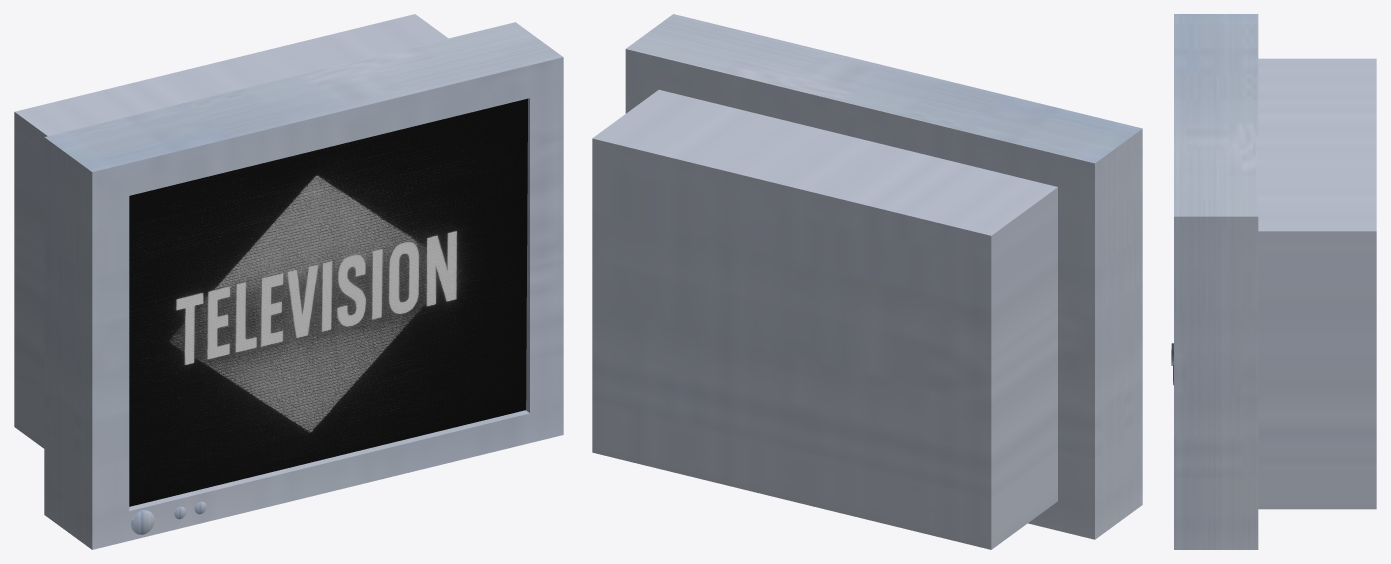
The model's file is Low-Poly_2000s_Vintage_TV_Model_Retro_CRT_TV.glb.
3 renders of one model, left to right at view 1: azimuth 30°, elevation 25°; view 2: azimuth 150°, elevation 25°; view 3: azimuth 270°, elevation 25°, orthographic. The views are drawn at different scales.
Visible parts, largest first — view 1: Plane_Material.007_0, Cube_Material.006_0, Cube_Material.008_0; view 2: Cube_Material.006_0; view 3: Cube_Material.006_0.
Part boxes in pixels (<box>): Plane_Material.007_0: <box>129,98,527,506</box>; Cube_Material.006_0: <box>14,14,563,549</box>; Cube_Material.008_0: <box>131,501,206,534</box>; Cube_Material.006_0: <box>592,14,1142,549</box>; Cube_Material.006_0: <box>1174,14,1376,549</box>.
Bounding box in the file's own units: 5.9 × 4.52 × 2.52.
Materials: 2 (2 with a texture image).
